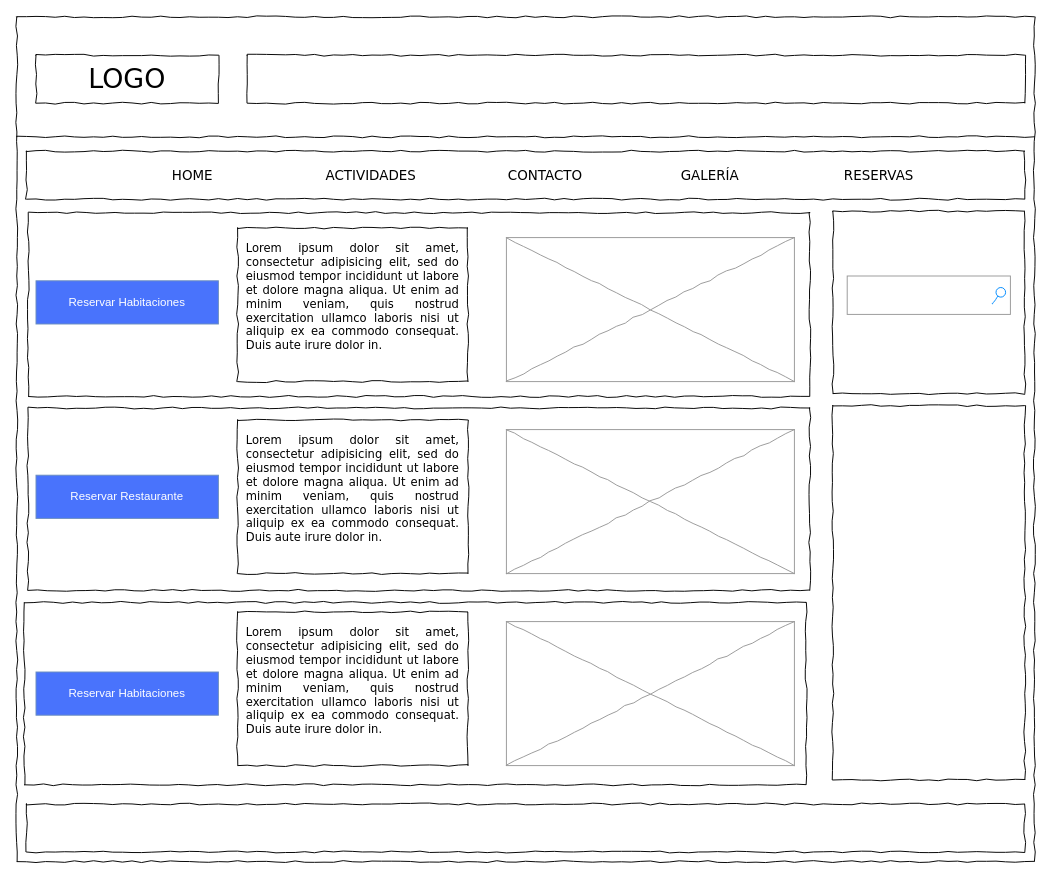
This 1051x878 diagram has some shape labels left out. Each missing label, with the centre of its shape:
"External Links" goes at pixel 928 592.
"NOMBRE DEL HOSTEL" goes at pixel 635 78.
"RRSS" goes at pixel 525 827.
"Search" goes at pixel 928 294.
